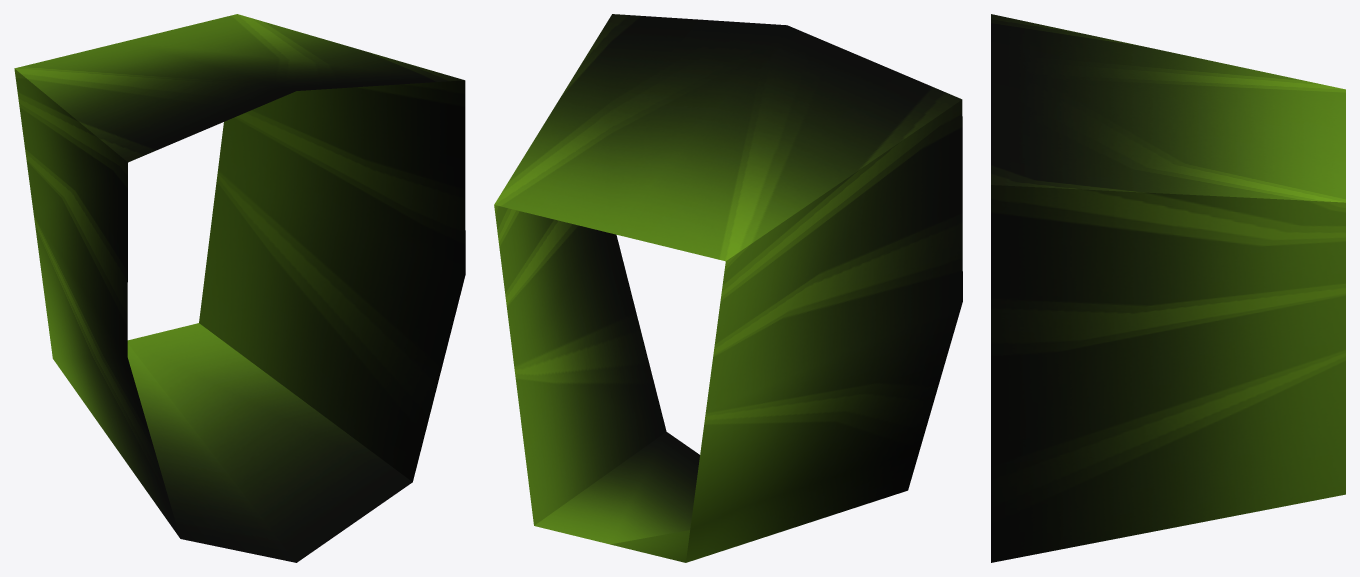
The model's file is window_light_03.fbx.
3 renders of one model, left to right at view 1: azimuth 30°, elevation 25°; view 2: azimuth 150°, elevation 25°; view 3: azimuth 270°, elevation 25°, orthographic. The views are drawn at different scales.
Parts seen in each view (by area): view 1: window_light_03; view 2: window_light_03; view 3: window_light_03.
Boxes of the visible parts, bbox=[...] form: window_light_03: bbox=[14, 14, 465, 562]; window_light_03: bbox=[494, 14, 962, 562]; window_light_03: bbox=[991, 14, 1345, 562].
Bounding box in the file's own units: 2.16 × 2.88 × 1.89.
